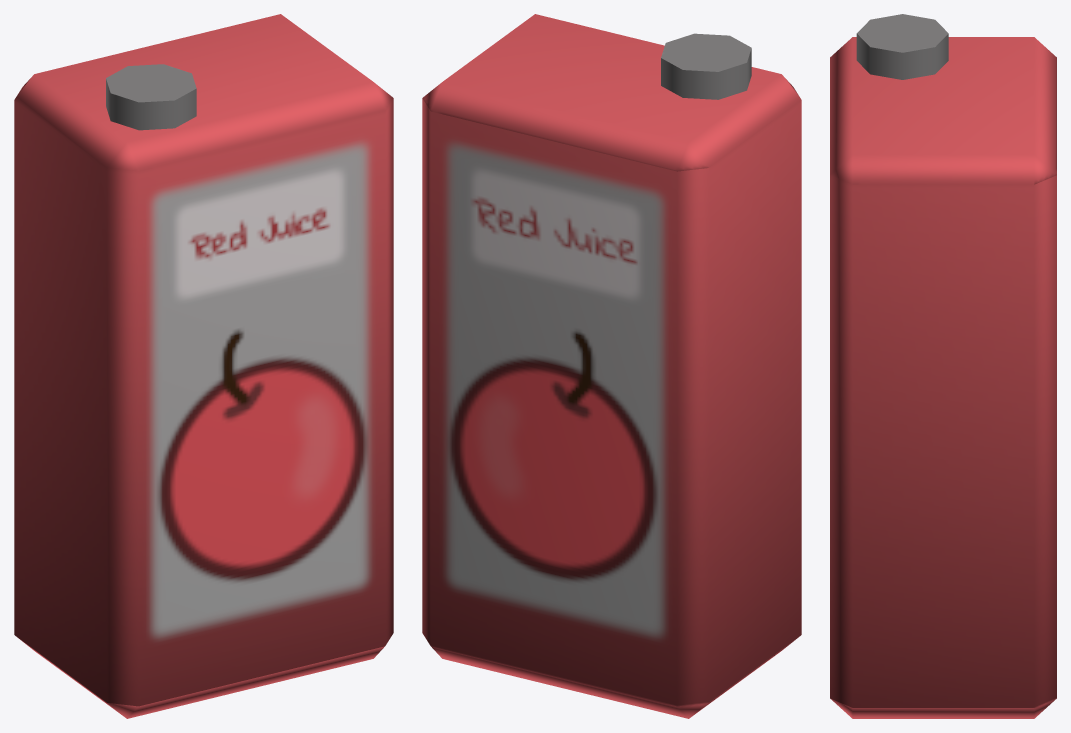
Rendered from Apple_Red_Juice.fbx.
3 views of the same model, side by side, from view 1: azimuth 30°, elevation 25°; view 2: azimuth 150°, elevation 25°; view 3: azimuth 270°, elevation 25° (orthographic). The views are drawn at different scales.
Parts seen in each view (by area): view 1: Apple_Red_Juice; view 2: Apple_Red_Juice; view 3: Apple_Red_Juice.
Boxes of the visible parts, left/top/right/bottom form: Apple_Red_Juice: left=14, top=14, right=393, bottom=718; Apple_Red_Juice: left=422, top=14, right=801, bottom=718; Apple_Red_Juice: left=830, top=14, right=1056, bottom=718.
Size of the model in its own units: 10.16 by 20.48 by 7.12.
